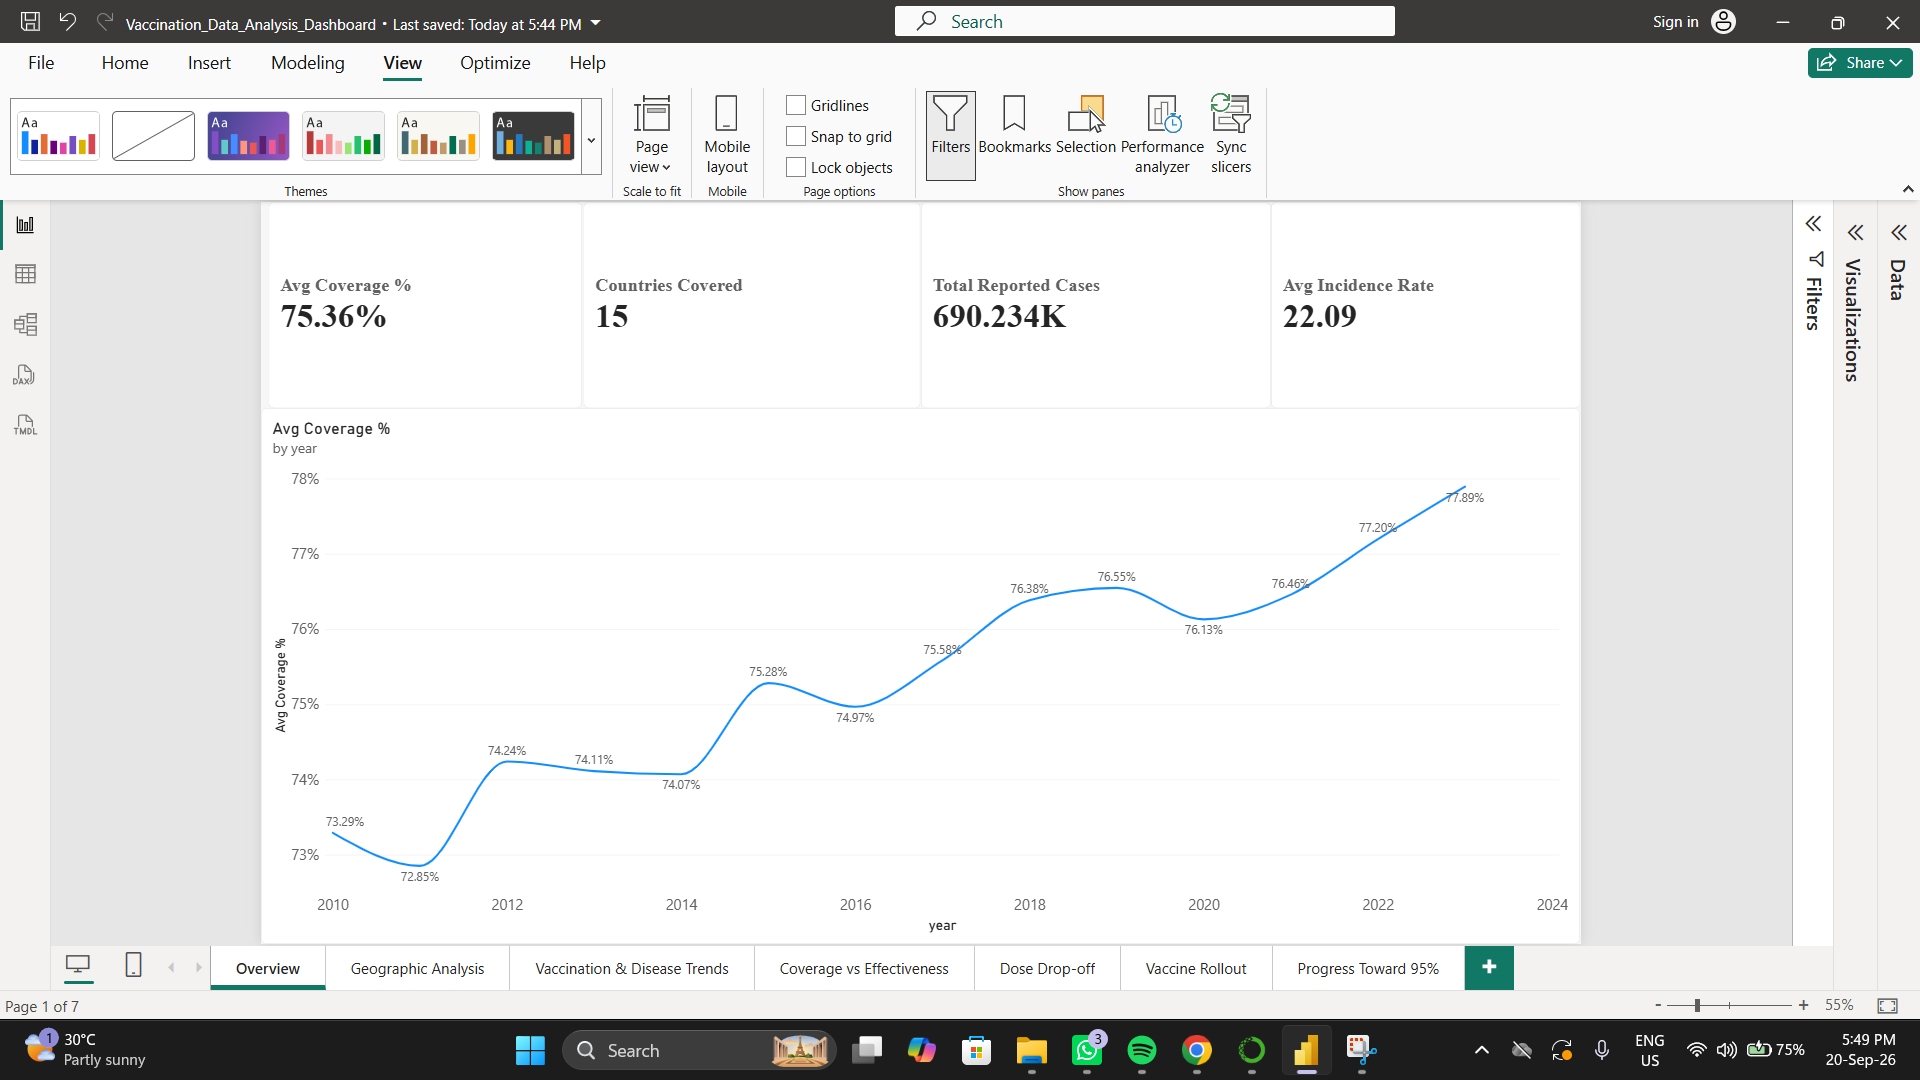

What the dashboard file says about the page in this screenshot:
{"tool":"powerbi","page":{"name":"Overview","canvas":[1920,1080],"ordinal":0},"visuals":[{"type":"cardVisual","fields":{"Data":["dim_country.Avg Coverage %"]},"box":[11.4,0,456.8,300],"z":0},{"type":"cardVisual","fields":{"Data":["dim_country.Total Reported Cases"]},"box":[959.1,0,509.1,300],"z":1000},{"type":"cardVisual","fields":{"Data":["dim_country.Avg Incidence Rate"]},"box":[1468.2,0,450,300],"z":2000},{"type":"cardVisual","fields":{"Data":["dim_country.Countries Covered"]},"box":[468.2,0,490.9,300],"z":3000},{"type":"lineChart","fields":{"Category":["fact_coverage.year"],"Y":["dim_country.Avg Coverage %"]},"box":[0,300,1918.2,779.5],"z":4000}]}

Visuals, with their boxes on the page's 1920x1080 design canvas (x1, y1, x2, y2). These are canvas units, not pixel positions in the 1920x1080 screenshot, which may show the page scaled, cropped or inside an application window:
cardVisual - dim_country.Avg Coverage %: <region>11, 0, 468, 300</region>
cardVisual - dim_country.Total Reported Cases: <region>959, 0, 1468, 300</region>
cardVisual - dim_country.Avg Incidence Rate: <region>1468, 0, 1918, 300</region>
cardVisual - dim_country.Countries Covered: <region>468, 0, 959, 300</region>
lineChart - fact_coverage.year x dim_country.Avg Coverage %: <region>0, 300, 1918, 1080</region>
